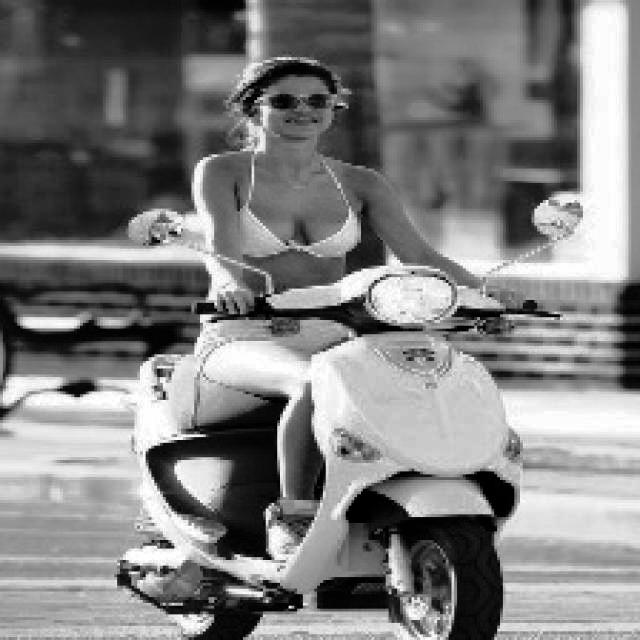Bike: (169, 278, 537, 638)
